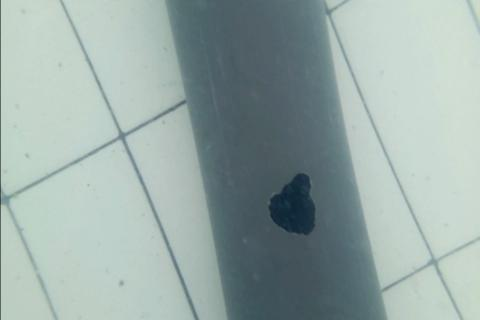kebocoran: (266, 170, 317, 236)
